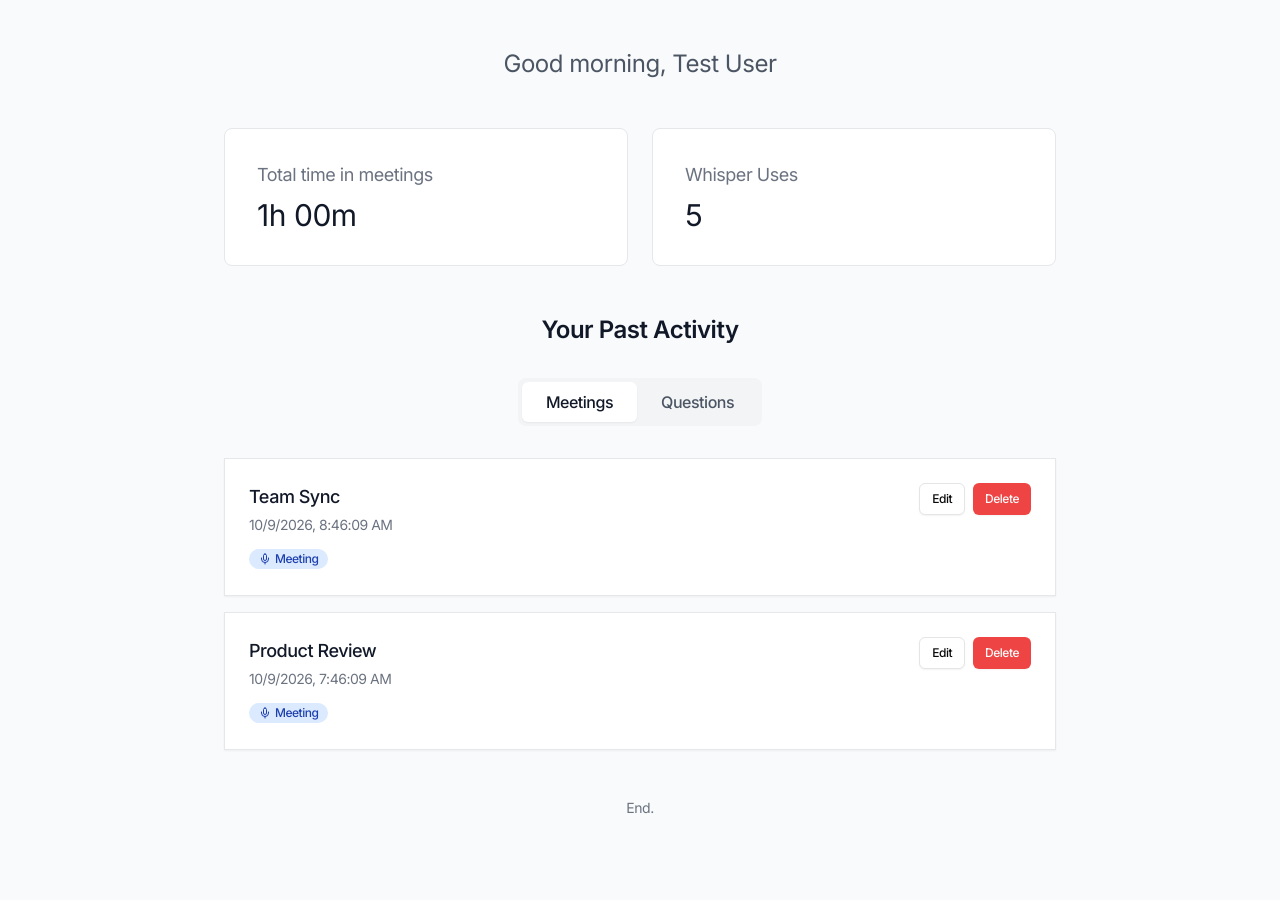
Test: ActivityPage › opens delete confirmation dialog
This screenshot has width=1280, height=900.
Expected: the text "Team Sync" is shown, 249,486 -> 340,507
Click the button "Delete" in the row of "Team Sync".
click(1002, 499)  # box 973,483 -> 1031,515
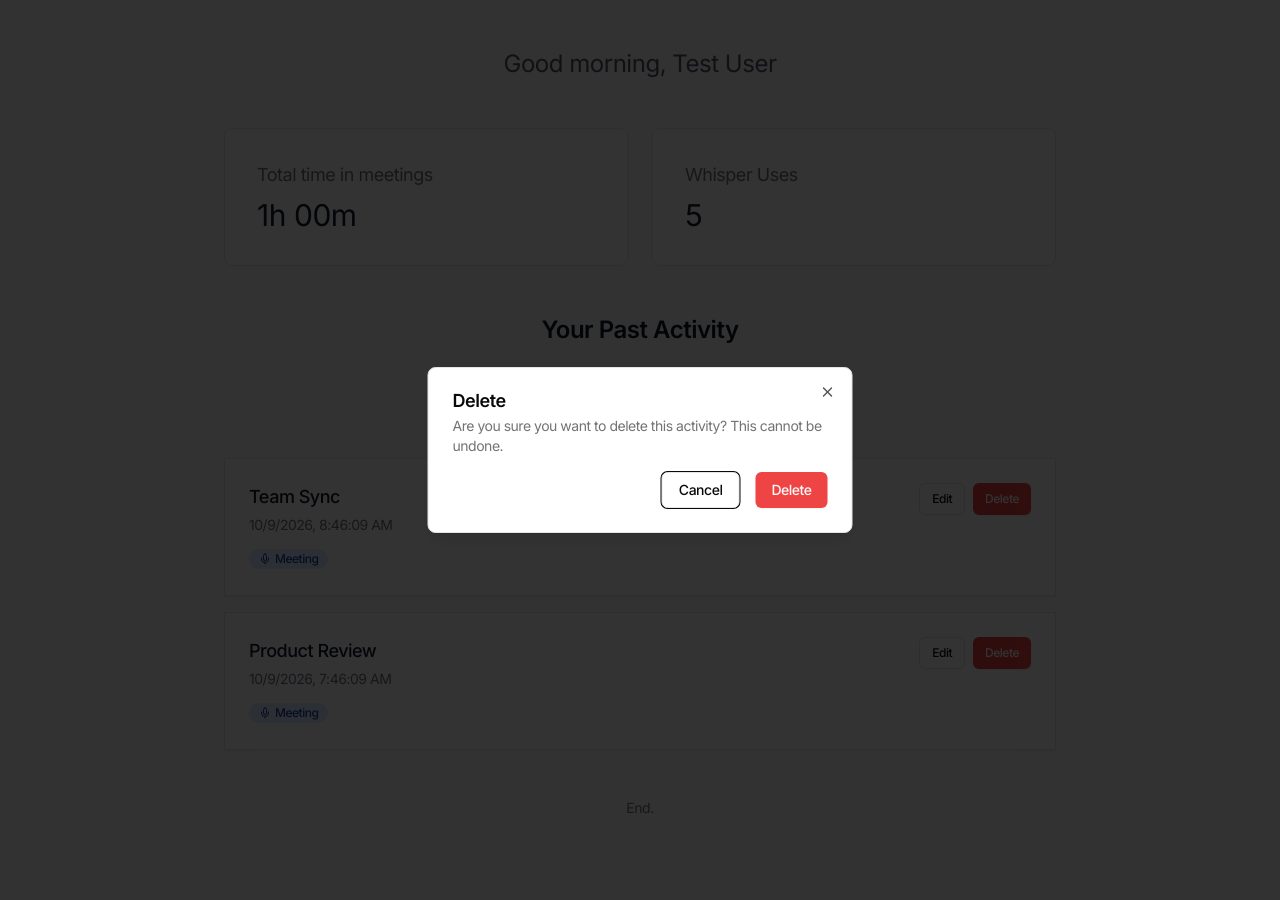
Expected: the text "Are you sure you want to delete" is shown, 452,417 -> 822,454
